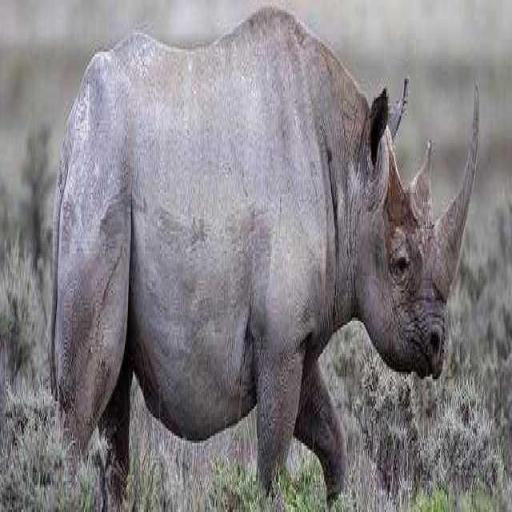Rhino: (47, 2, 480, 510)
